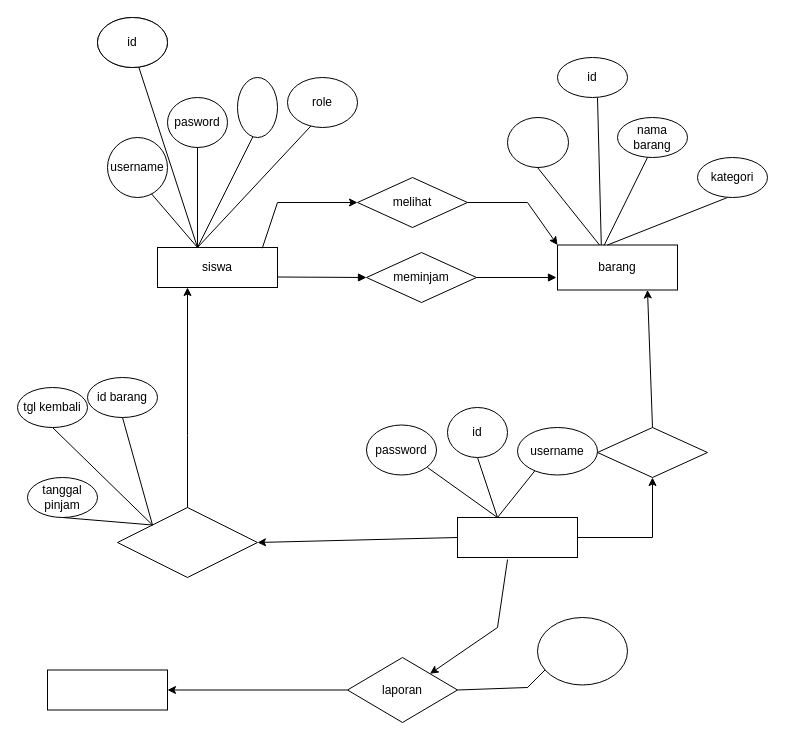
Image size: 785x740. Some labels were removed from this diagram. The centre of each missing label's shape, as x and y in pixels:
"admin" belongs at point (517, 537).
"data peminjaman" belongs at point (582, 650).
"jumlah" belongs at point (537, 142).
"kepala sekolah" belongs at point (107, 689).
"mengelola" belongs at point (652, 452).
"mengelola data peminjaman" belongs at point (187, 542).
"status" belongs at point (257, 107).
